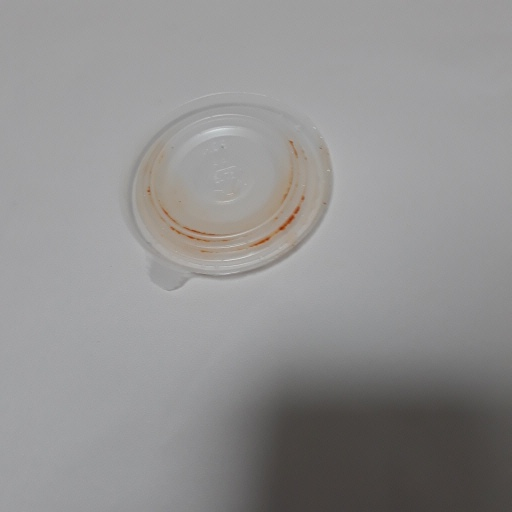Plastic_5: (114, 90, 332, 297)
